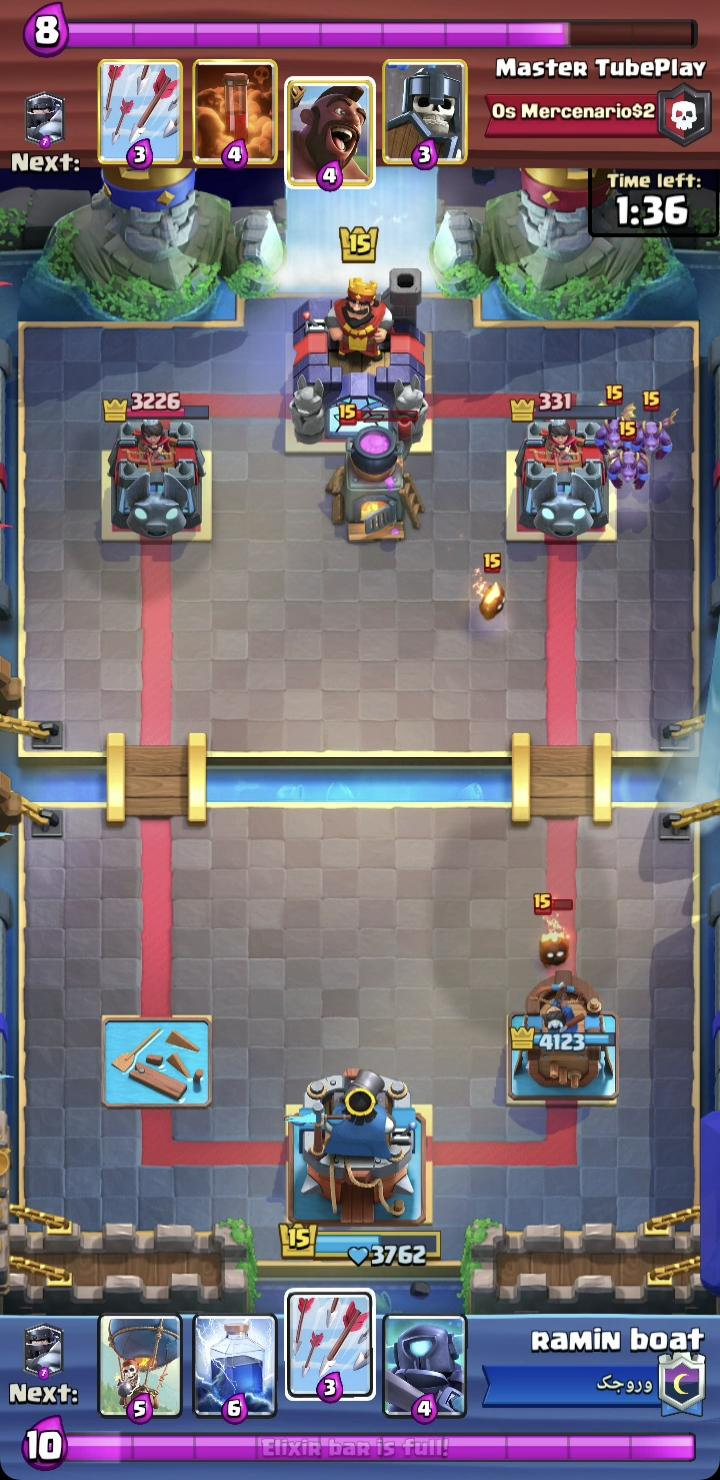enemy_fire_spirit: (531, 890, 575, 967), (472, 551, 510, 621)
enemy_furnace: (325, 402, 426, 544)
enemy_minion: (627, 390, 680, 462), (593, 386, 637, 456), (608, 421, 650, 491)
